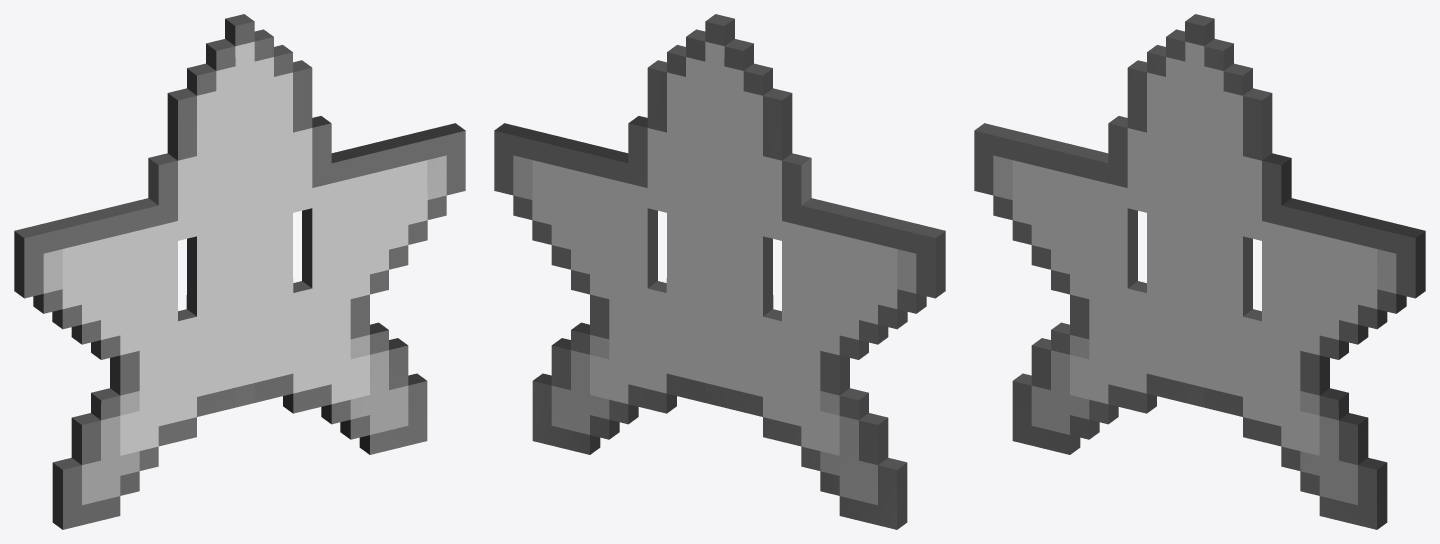
Rendered from ShineDot.dae.
3 views of the same model, side by side, from view 1: azimuth 30°, elevation 25°; view 2: azimuth 150°, elevation 25°; view 3: azimuth 330°, elevation 25° (orthographic).
Visible parts, largest first — view 1: Star; view 2: Star; view 3: Star.
Boxes of the visible parts, x1,y1,x2,y2 form: Star: (14, 14, 465, 529); Star: (494, 14, 945, 529); Star: (974, 14, 1425, 529).
Size of the model in its own units: 144 by 5.8 by 144.
Materials: 1 (1 with a texture image).
